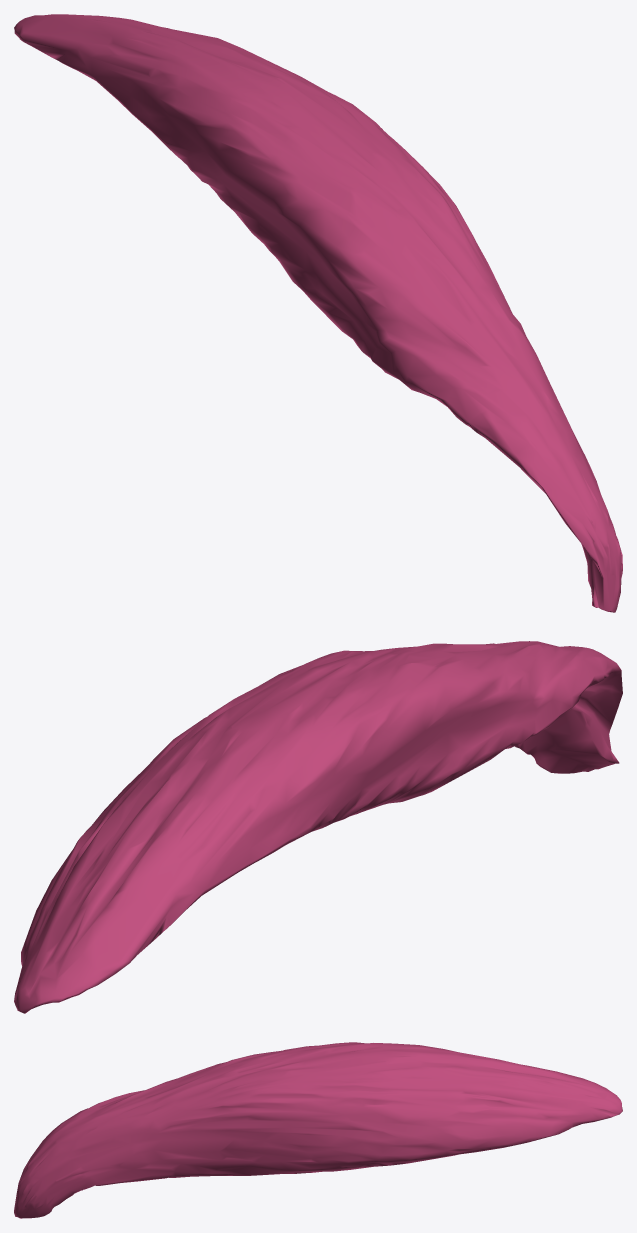
3 renders of one model, top to bottom at view 1: azimuth 30°, elevation 25°; view 2: azimuth 150°, elevation 25°; view 3: azimuth 270°, elevation 25°, orthographic. The views are drawn at different scales.
Visible parts, largest first — view 1: 左侧腓肠肌外侧头; view 2: 左侧腓肠肌外侧头; view 3: 左侧腓肠肌外侧头.
Part boxes in pixels (x1=…): 左侧腓肠肌外侧头: x1=14, y1=14, x2=622, y2=612; 左侧腓肠肌外侧头: x1=14, y1=641, x2=622, y2=1013; 左侧腓肠肌外侧头: x1=14, y1=1042, x2=622, y2=1218.
Bounding box in the file's own units: 0.0797 × 0.1148 × 0.3968.
